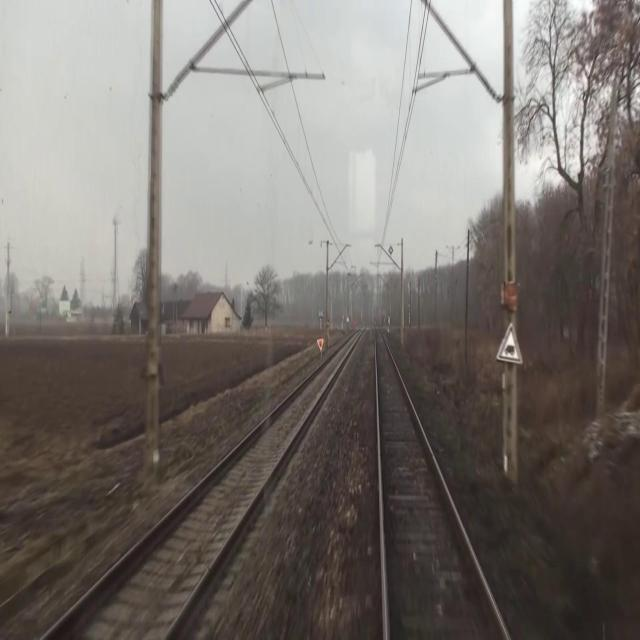rail-track: (46, 331, 360, 639), (376, 322, 505, 639)
